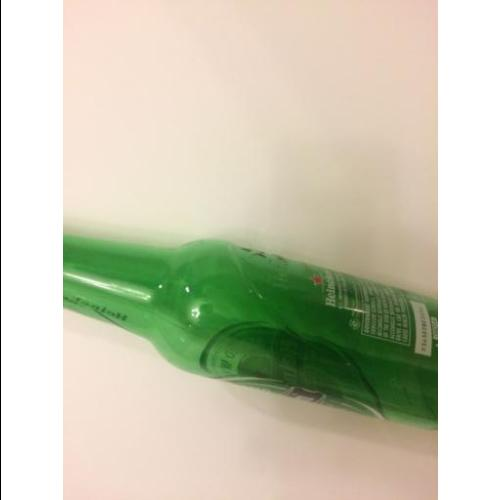glass: (61, 237, 438, 423)
